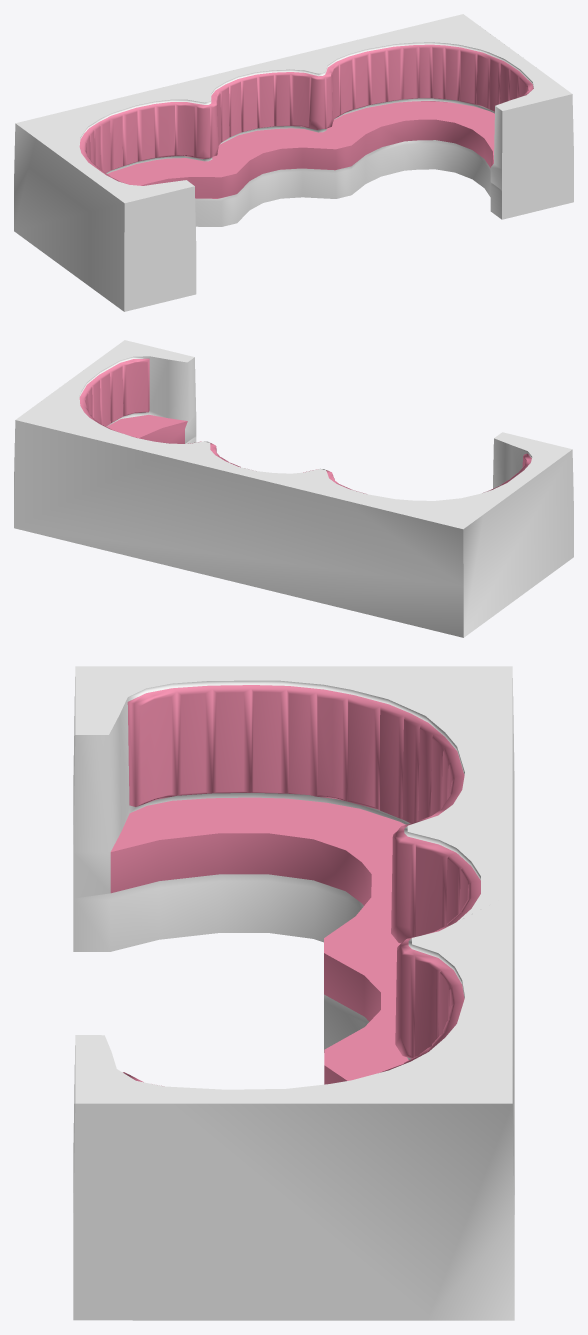
The model's file is cf4bc089-e260-47f5-b5f0-e4b7c22edfc1.glb.
The picture shows the model from 3 angles, top to bottom: view 1: azimuth 30°, elevation 25°; view 2: azimuth 150°, elevation 25°; view 3: azimuth 270°, elevation 25°; orthographic projection. The views are drawn at different scales.
Visible parts, largest first — view 1: BarCouch.007; view 2: BarCouch.007; view 3: BarCouch.007.
Part boxes in pixels (<box>): BarCouch.007: <box>14,14,573,311</box>; BarCouch.007: <box>14,340,573,637</box>; BarCouch.007: <box>73,666,514,1320</box>.
Size of what is drawn, in the model's own units: 4.75 by 1.09 by 2.02.
1 material, 1 textured.
